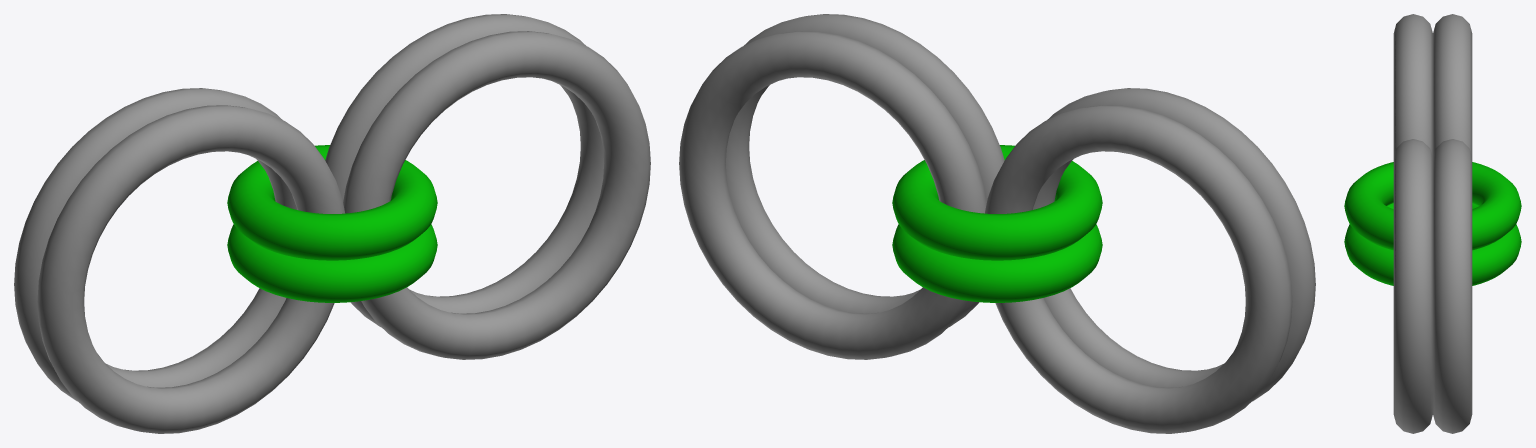
Rendered from japanese_8_in_2_step_03.glb.
3 views of the same model, side by side, from view 1: azimuth 30°, elevation 25°; view 2: azimuth 150°, elevation 25°; view 3: azimuth 270°, elevation 25° (orthographic). The views are drawn at different scales.
Parts seen in each view (by area): view 1: Torus AR 6.032, Torus AR 6.024, Torus AR 6.019, Torus AR 6.027, Torus AR 3.042, Torus AR 3.041; view 2: Torus AR 6.027, Torus AR 6.019, Torus AR 6.024, Torus AR 6.032, Torus AR 3.042, Torus AR 3.041; view 3: Torus AR 6.027, Torus AR 6.032, Torus AR 3.042, Torus AR 6.019, Torus AR 6.024, Torus AR 3.041.
Boxes of the visible parts, x1,y1,x2,y2 form: Torus AR 6.032: (343, 31, 650, 359); Torus AR 6.024: (37, 105, 345, 433); Torus AR 6.019: (14, 88, 296, 401); Torus AR 6.027: (325, 14, 604, 327); Torus AR 3.042: (227, 145, 437, 260); Torus AR 3.041: (227, 224, 437, 302); Torus AR 6.027: (679, 31, 986, 359); Torus AR 6.019: (984, 105, 1292, 433); Torus AR 6.024: (1033, 88, 1315, 401); Torus AR 6.032: (725, 14, 1004, 327); Torus AR 3.042: (892, 145, 1102, 260); Torus AR 3.041: (892, 224, 1102, 302); Torus AR 6.027: (1433, 139, 1472, 433); Torus AR 6.032: (1393, 139, 1432, 433); Torus AR 3.042: (1344, 162, 1521, 250); Torus AR 6.019: (1433, 14, 1472, 157); Torus AR 6.024: (1393, 14, 1432, 157); Torus AR 3.041: (1344, 203, 1521, 285).
Bounding box in the file's own units: 6 × 3 × 1.8.
